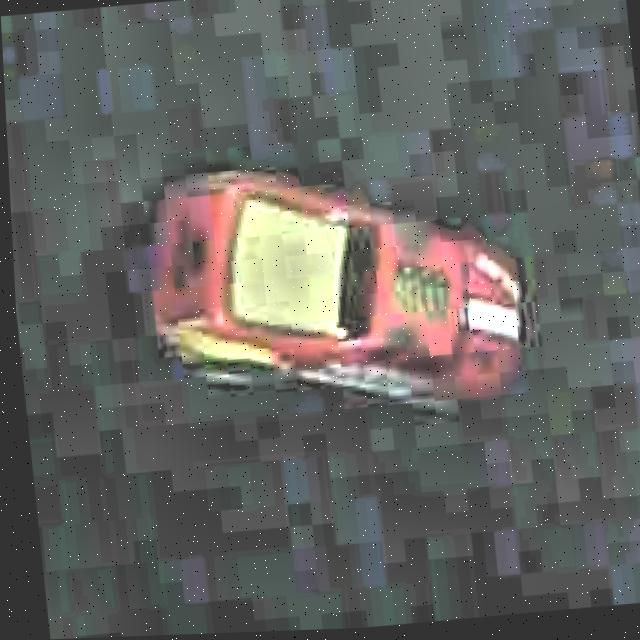car: (127, 140, 538, 441)
